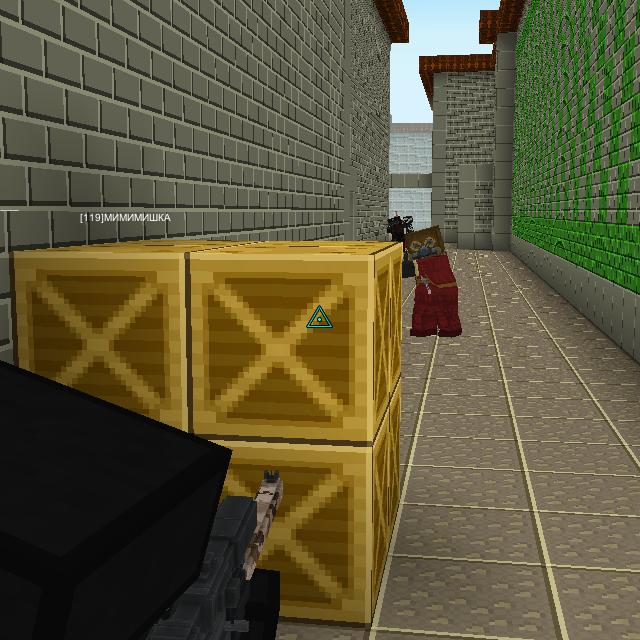enemy: (404, 224, 462, 338), (388, 216, 406, 253), (404, 216, 414, 233)
